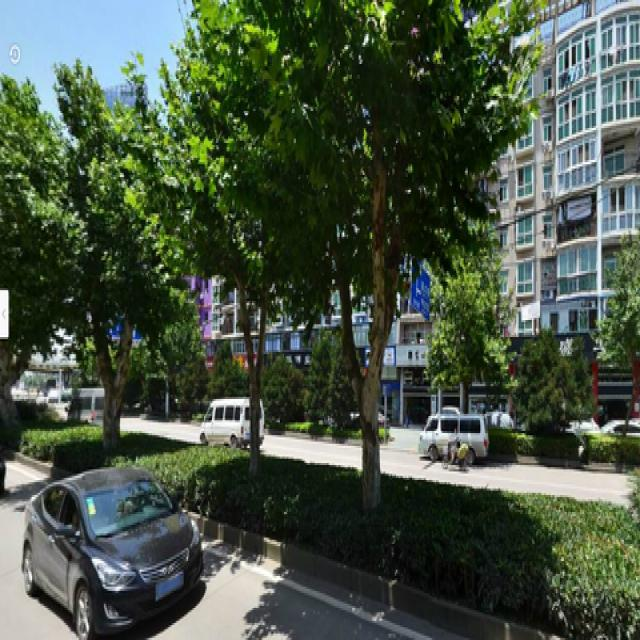meta: (175, 36, 260, 478), (67, 122, 148, 440)
